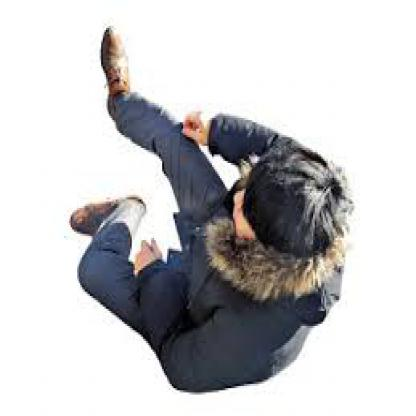Fall_Down: (68, 20, 352, 398)
